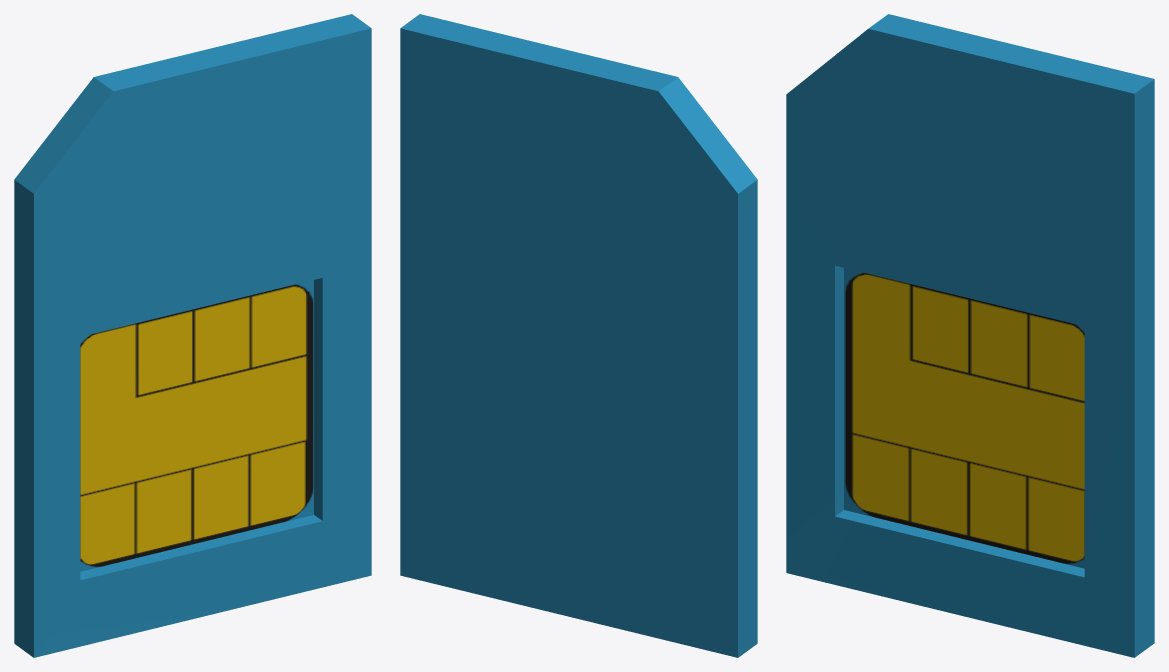
The model's file is fbx_usim.fbx.
The picture shows the model from 3 angles, left to right: view 1: azimuth 30°, elevation 25°; view 2: azimuth 150°, elevation 25°; view 3: azimuth 330°, elevation 25°; orthographic projection. The views are drawn at different scales.
Parts seen in each view (by area): view 1: fbx_usim; view 2: fbx_usim; view 3: fbx_usim.
Boxes of the visible parts, x1,y1,x2,y2 form: fbx_usim: (14,14,371,657); fbx_usim: (400,14,757,657); fbx_usim: (786,14,1154,657).
Size of the model in its own units: 0.6774 by 1.05 by 0.0681.
Materials: 1 (1 with a texture image).
